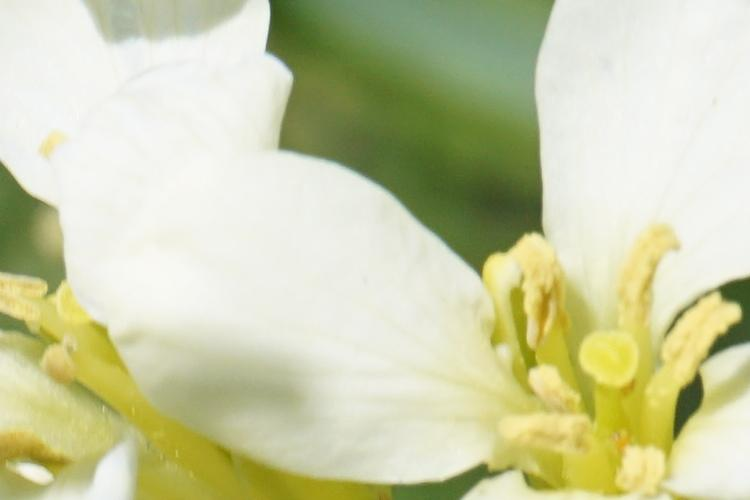white: (96, 59, 745, 490)
